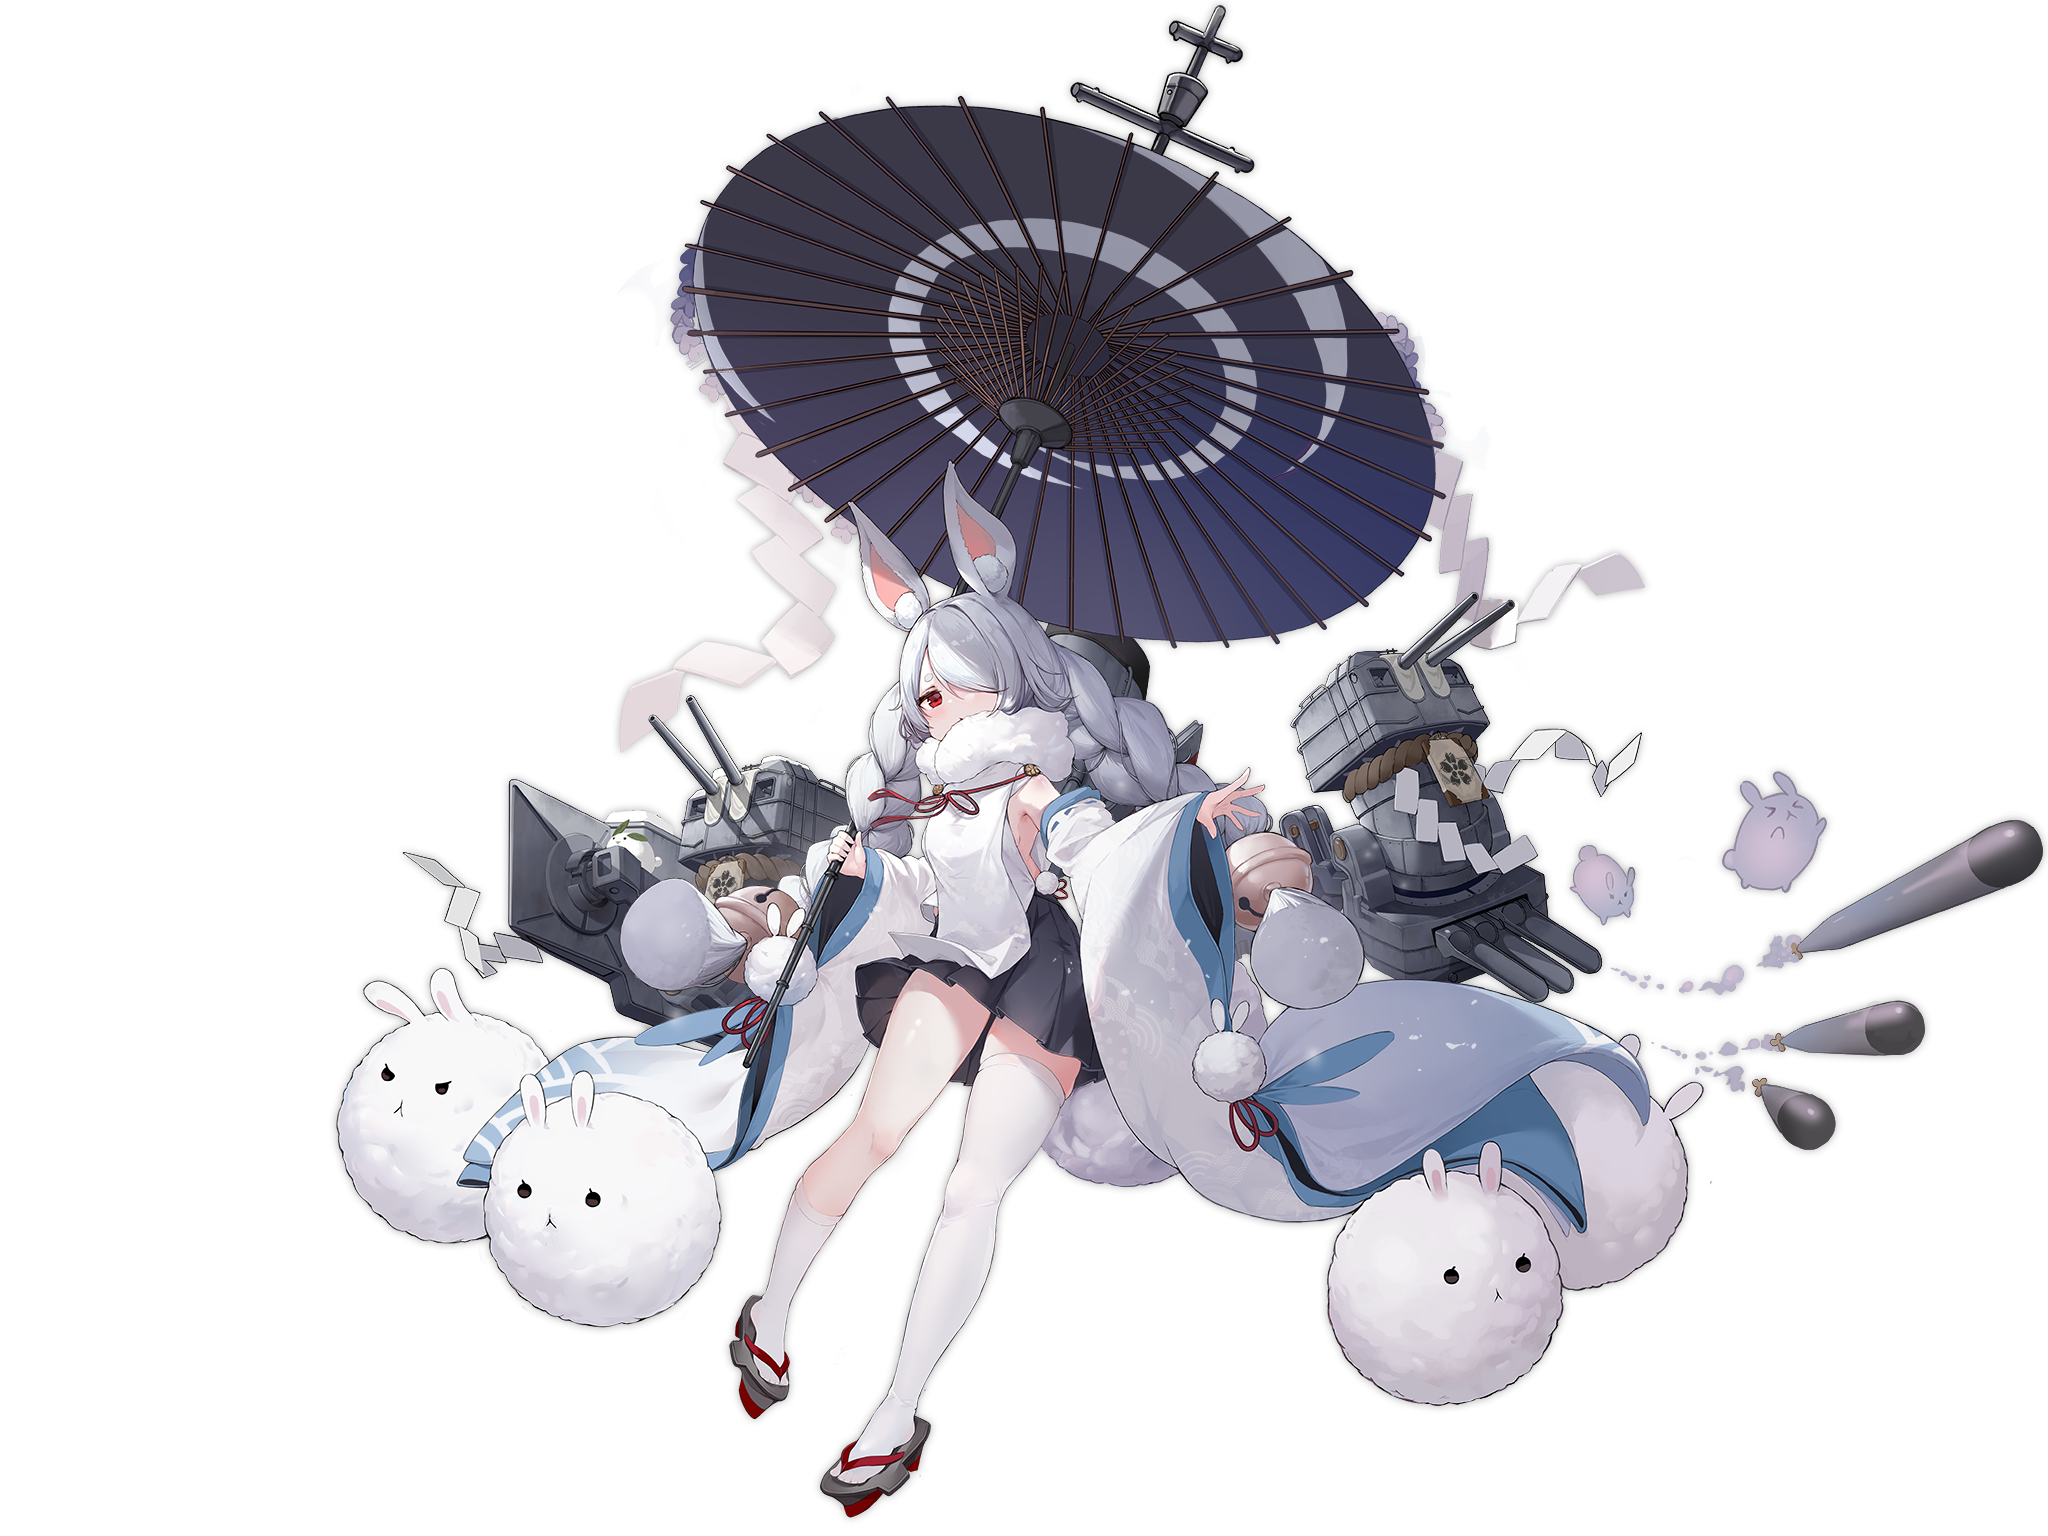person: (648, 592, 1159, 1330)
